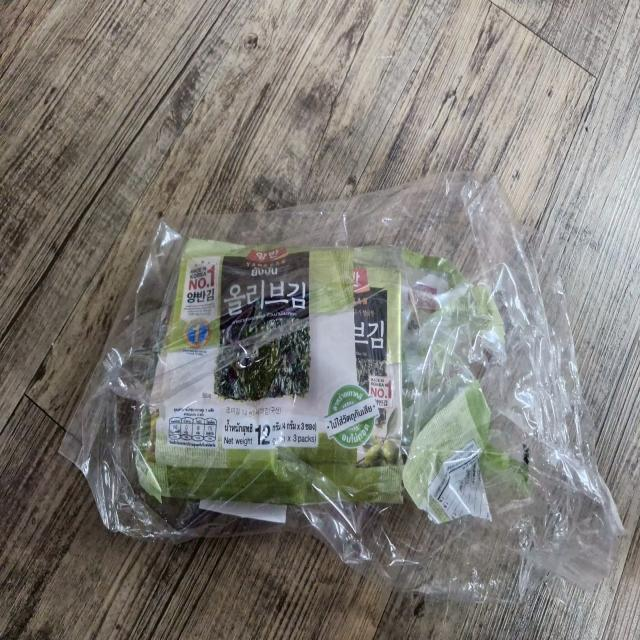plastic bag: (54, 187, 622, 618)
